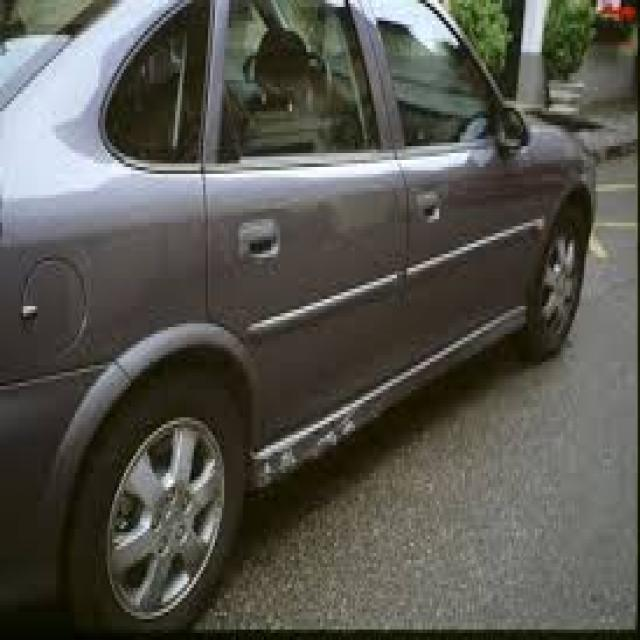minor: (252, 435, 386, 475)
